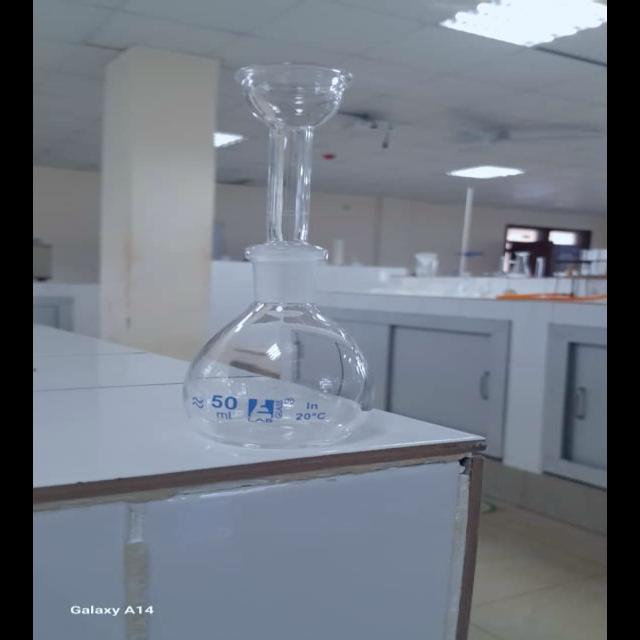Density Bottles for Solids: (169, 58, 408, 452)
